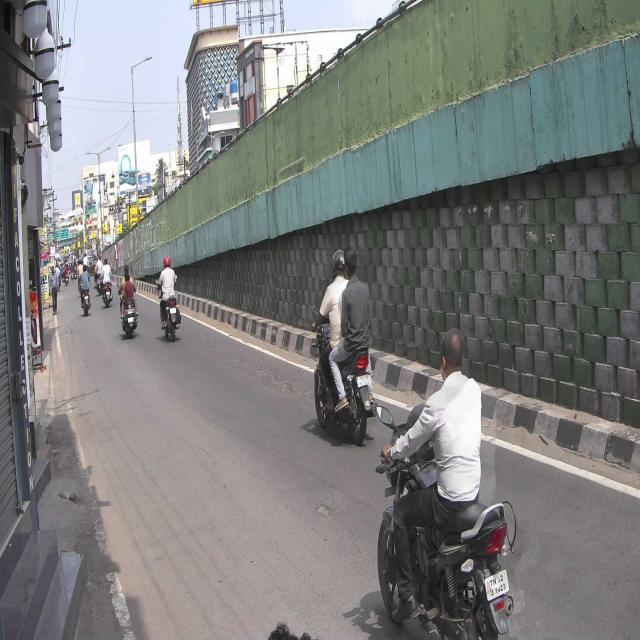double_rider: (310, 241, 374, 449)
single_rider: (375, 327, 515, 640)
